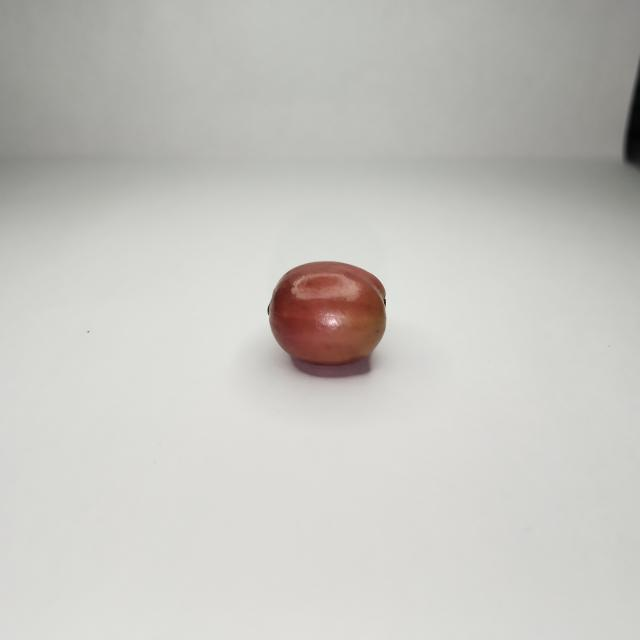Sano: (267, 262, 385, 376)
